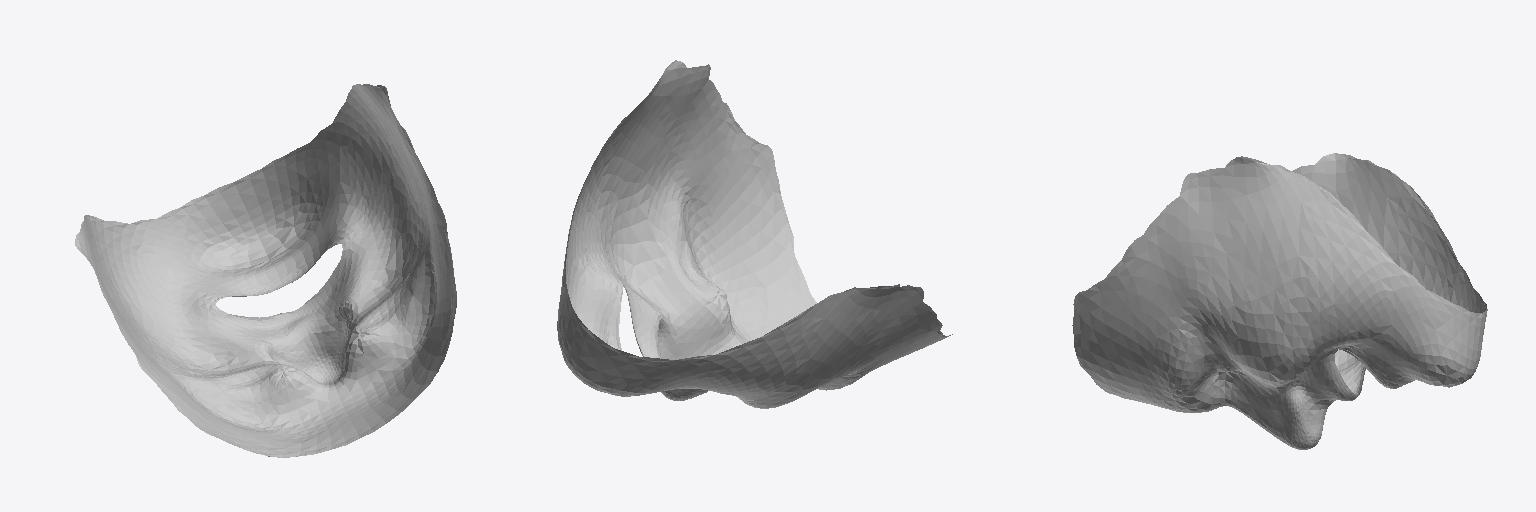
The model's file is face_gab_sfm96.obj.
3 views of the same model, side by side, from view 1: azimuth 30°, elevation 25°; view 2: azimuth 150°, elevation 25°; view 3: azimuth 270°, elevation 25° (orthographic).
Bounding box in the file's own units: 170 × 161 × 197.